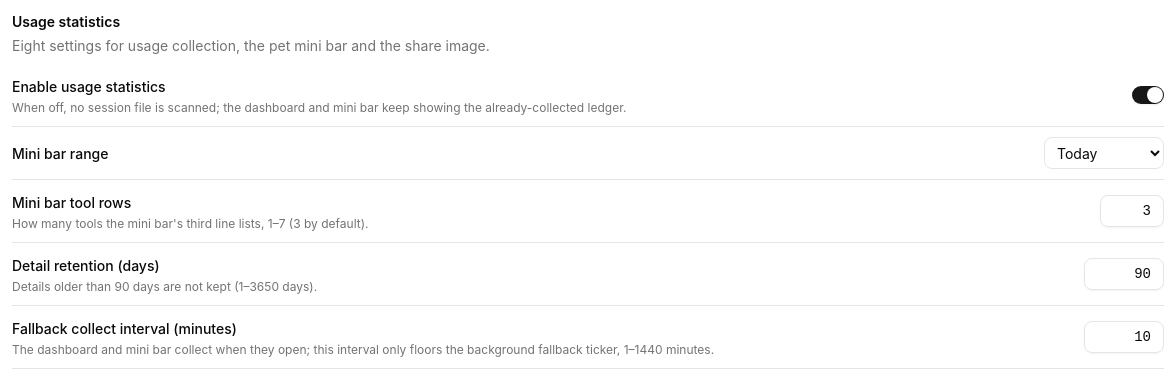
Test: 设置页「用量统计」分组（计划② Task 14） › 2. 开关：改动即发 patch，并用后端返回的合并对象回写本地态
Click the switch with test id "usage-enabled" at (1148, 95), box [1132,86,1164,104]
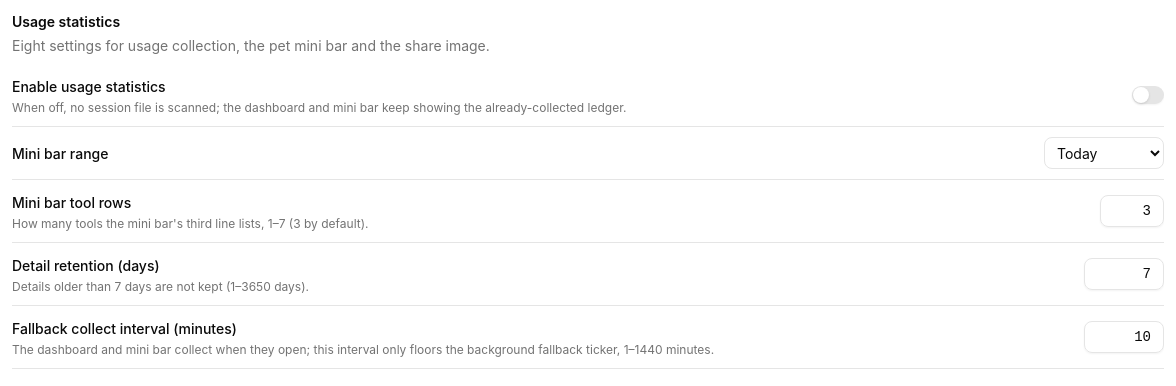
Expected: the field with test id "usage-detail-retention-days" holds "7", [1084,258,1164,290]
